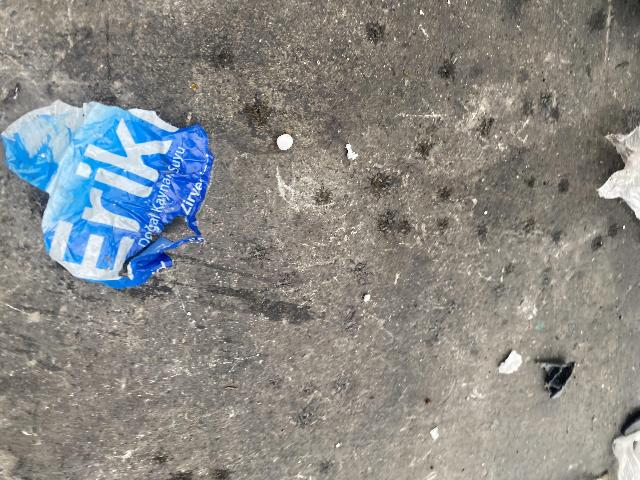Plastik: (2, 99, 213, 293)
